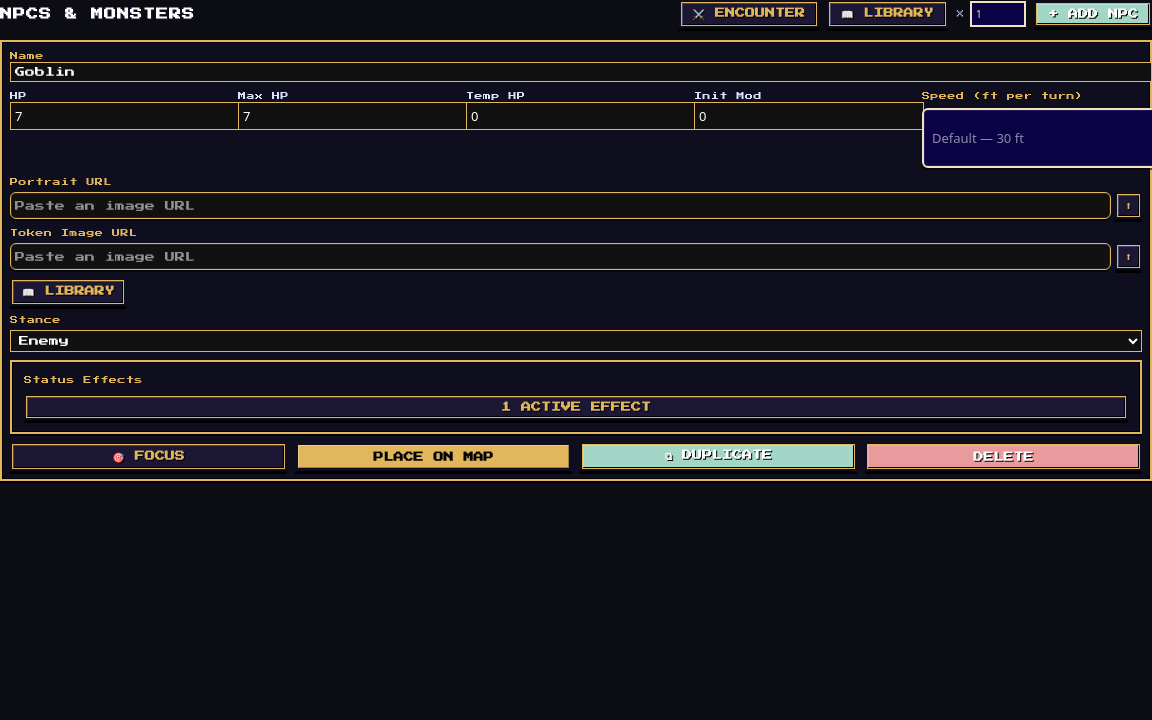
Test case: NPCsTab — an NPC's conditions and Focus › shows the conditions it already has
Click the button "1 Active Effect" at coordinates (576, 407), box [24,394,1128,420]
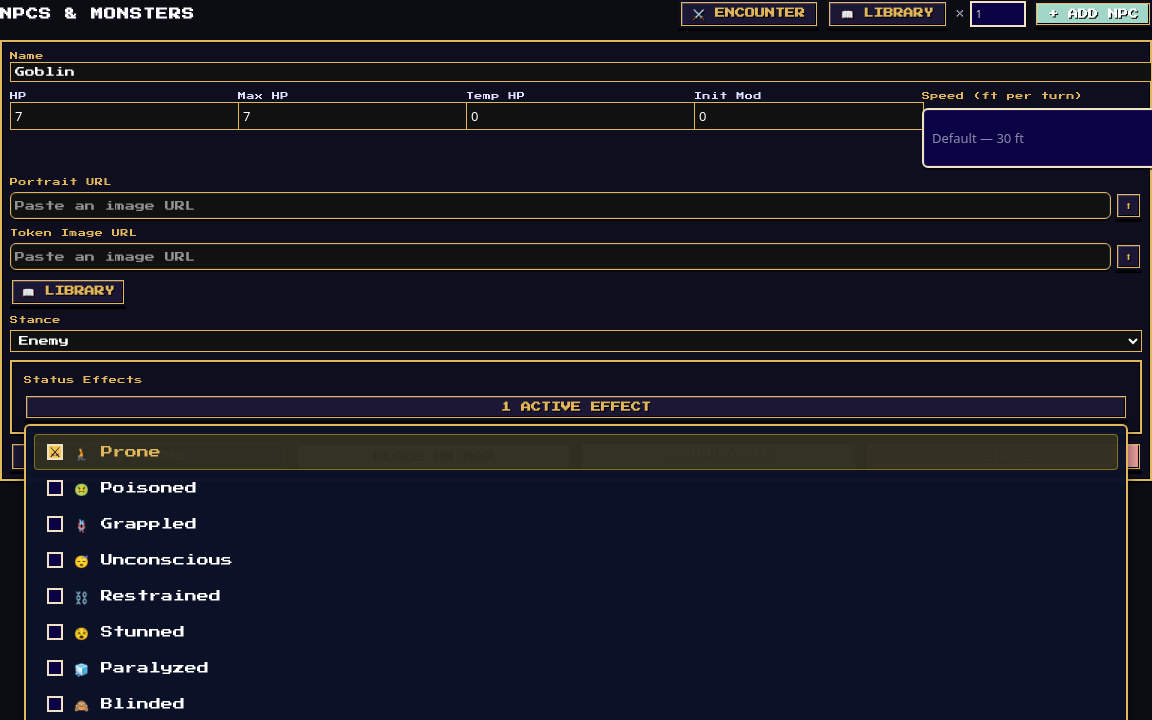
expect the checkbox labelled "🧎 Prone" is checked: met, box [47,444,63,460]
